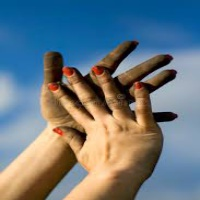ring: (87, 67, 131, 121), (147, 68, 182, 92)
